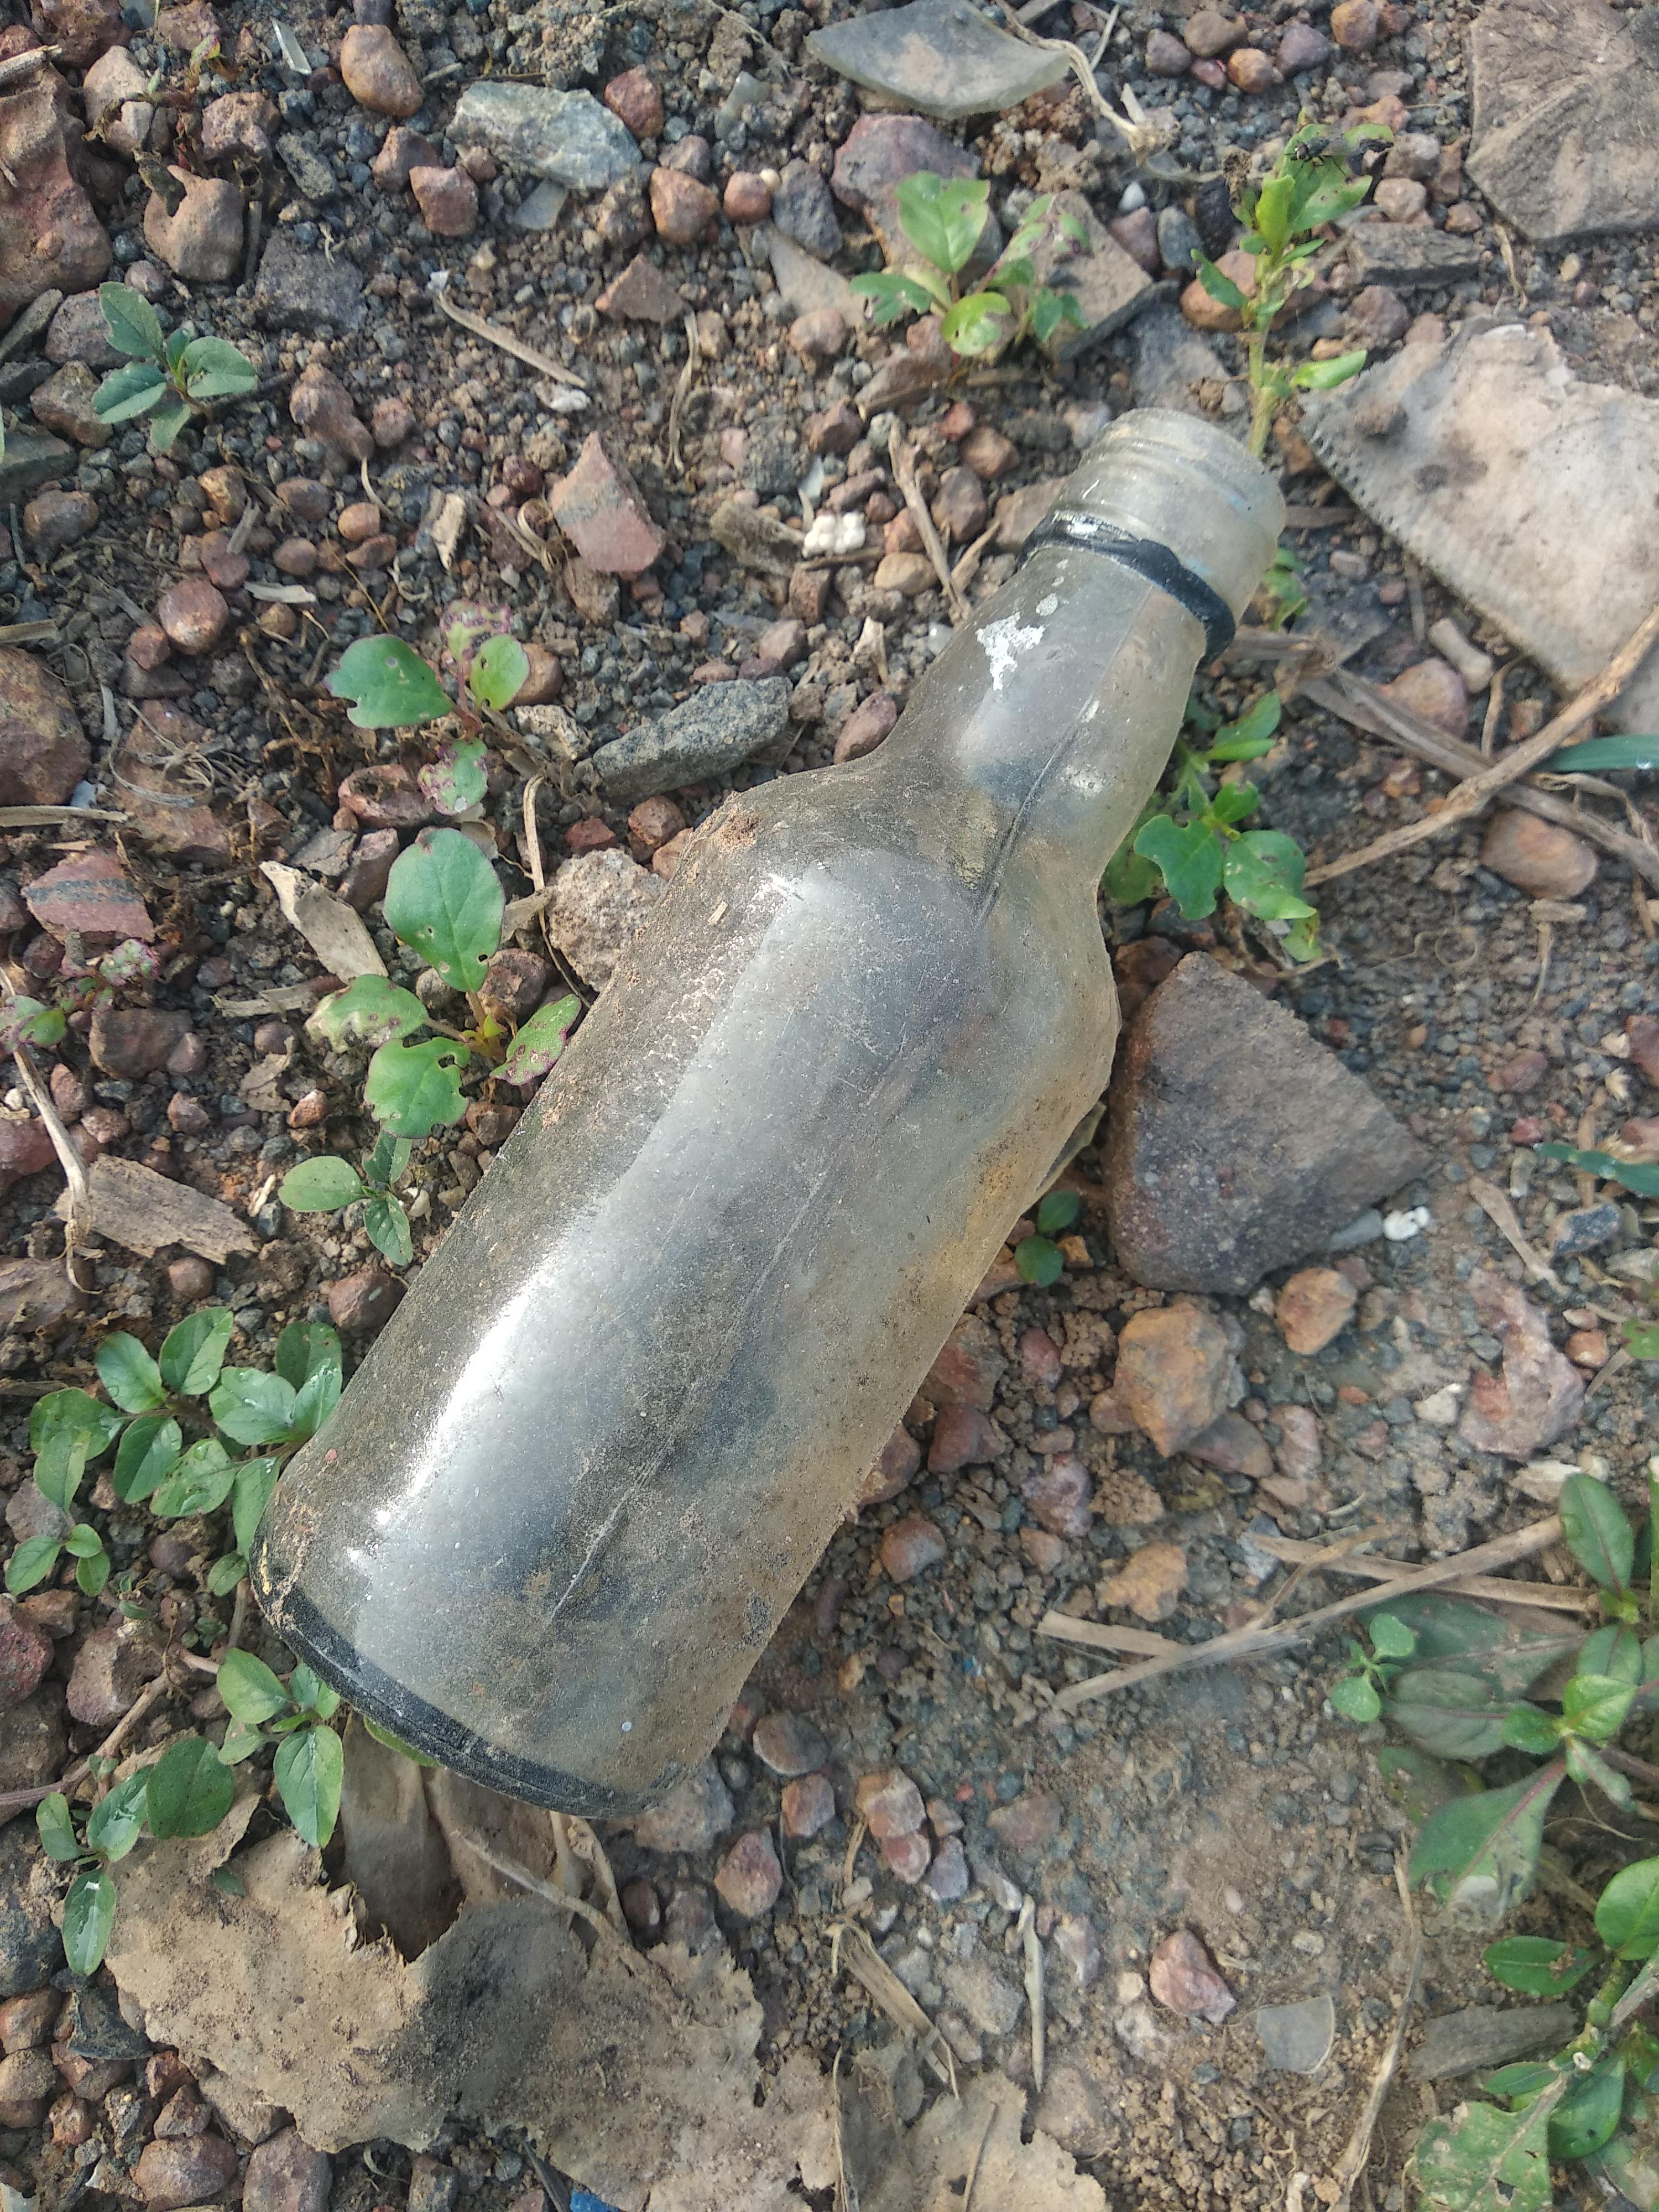trash: (199, 381, 1297, 1850)
